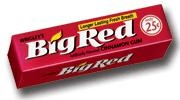grozi_7: (8, 3, 174, 90)
